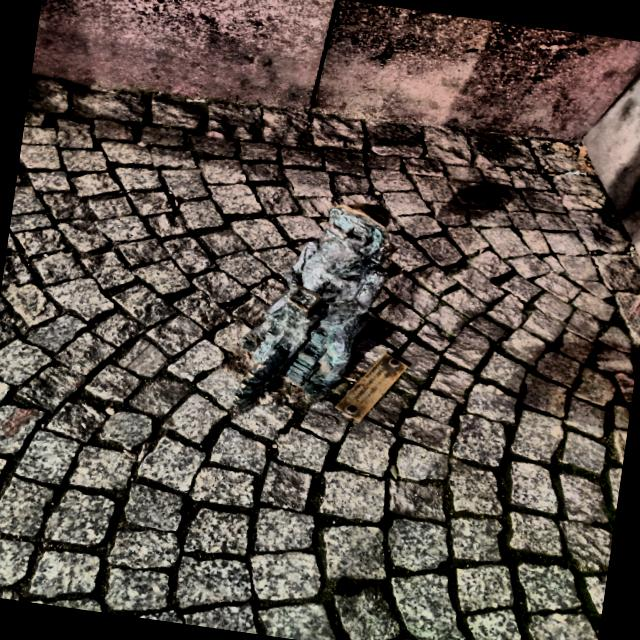Automatek: (234, 203, 396, 410)
